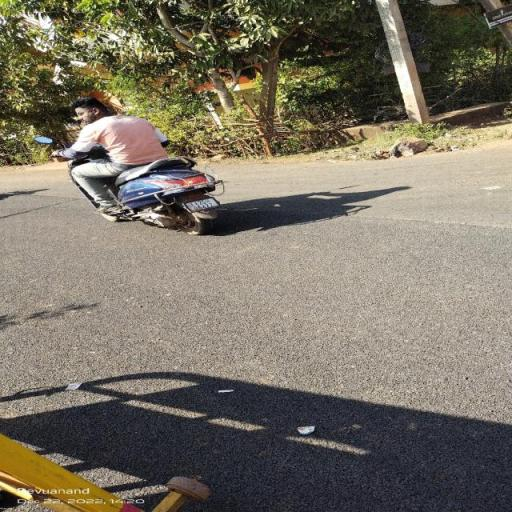bike: (30, 90, 233, 238)
numberplate: (184, 195, 219, 212)
withouthelmet: (75, 98, 105, 118)
